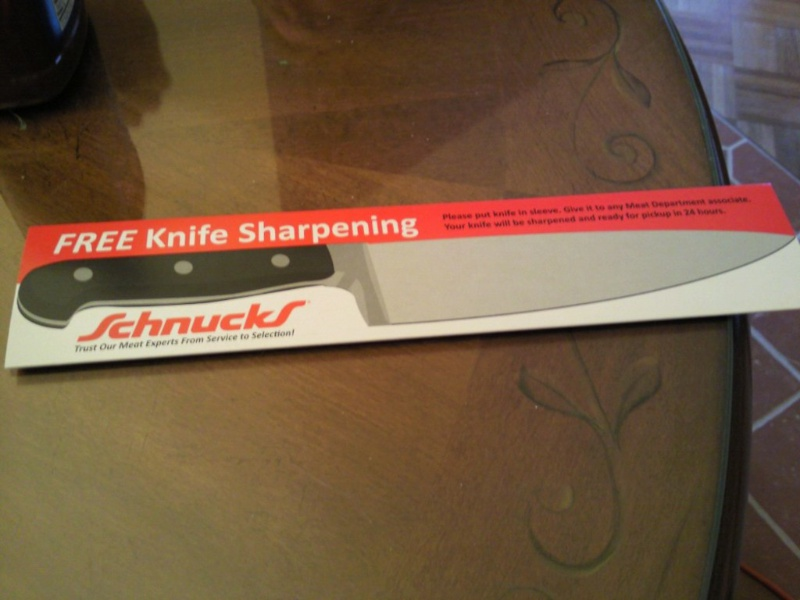knife: (7, 218, 799, 329)
